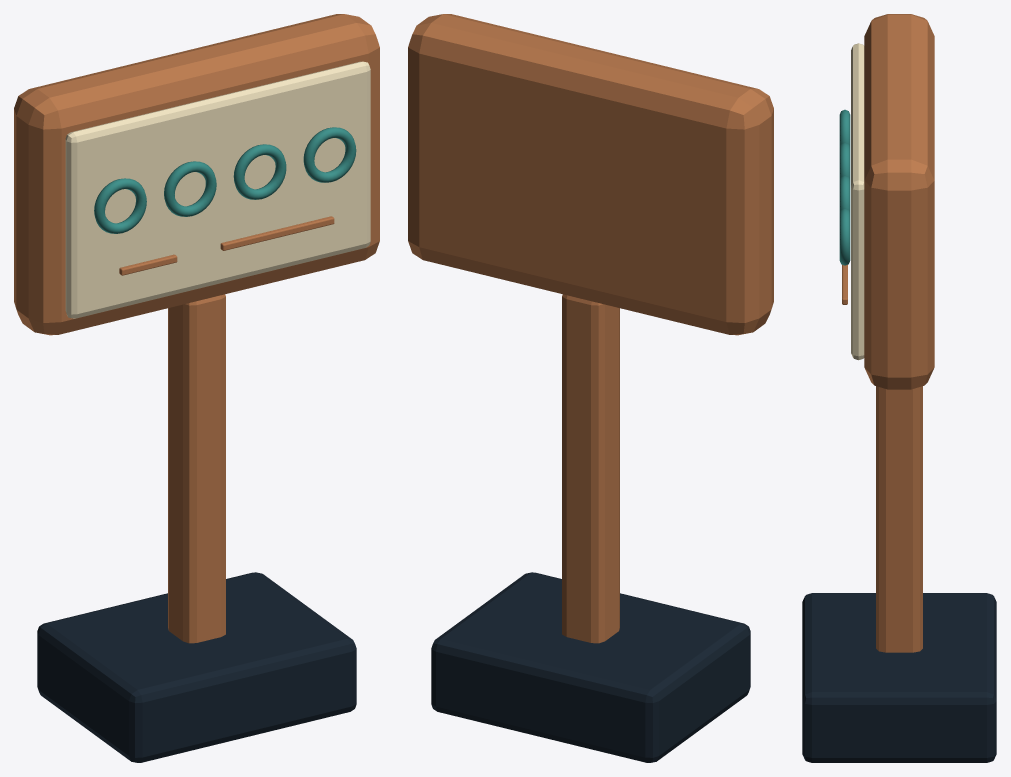
3 renders of one model, left to right at view 1: azimuth 30°, elevation 25°; view 2: azimuth 150°, elevation 25°; view 3: azimuth 270°, elevation 25°, orthographic. The views are drawn at different scales.
Visible parts, largest first — view 1: PR004_inset, PR004_plinth, PR004_frame, PR004_stem, PR004_verb_icon.001, PR004_verb_icon.003, PR004_verb_icon.002, PR004_verb_icon, PR004_decorative_rule.001; view 2: PR004_frame, PR004_plinth, PR004_stem; view 3: PR004_plinth, PR004_frame, PR004_stem, PR004_inset, PR004_verb_icon.003, PR004_verb_icon.002, PR004_verb_icon, PR004_verb_icon.001.
Boxes of the visible parts, box(x1,y1,x2,y2) form: PR004_inset: box(65, 61, 370, 318); PR004_plinth: box(37, 572, 356, 762); PR004_frame: box(14, 14, 379, 335); PR004_stem: box(168, 294, 225, 643); PR004_verb_icon.001: box(164, 161, 216, 216); PR004_verb_icon.003: box(303, 127, 356, 182); PR004_verb_icon.002: box(233, 144, 286, 199); PR004_verb_icon: box(94, 178, 146, 233); PR004_decorative_rule.001: box(220, 216, 334, 250); PR004_frame: box(408, 14, 773, 335); PR004_plinth: box(431, 572, 750, 762); PR004_stem: box(562, 294, 619, 643); PR004_plinth: box(802, 593, 996, 762); PR004_frame: box(864, 14, 934, 389); PR004_stem: box(876, 386, 922, 652); PR004_inset: box(851, 43, 864, 360); PR004_verb_icon.003: box(839, 208, 850, 265); PR004_verb_icon.002: box(839, 175, 850, 212); PR004_verb_icon: box(839, 109, 850, 146); PR004_verb_icon.001: box(839, 142, 850, 179).
Size of the model in its own units: 1 by 1.78 by 0.5.
